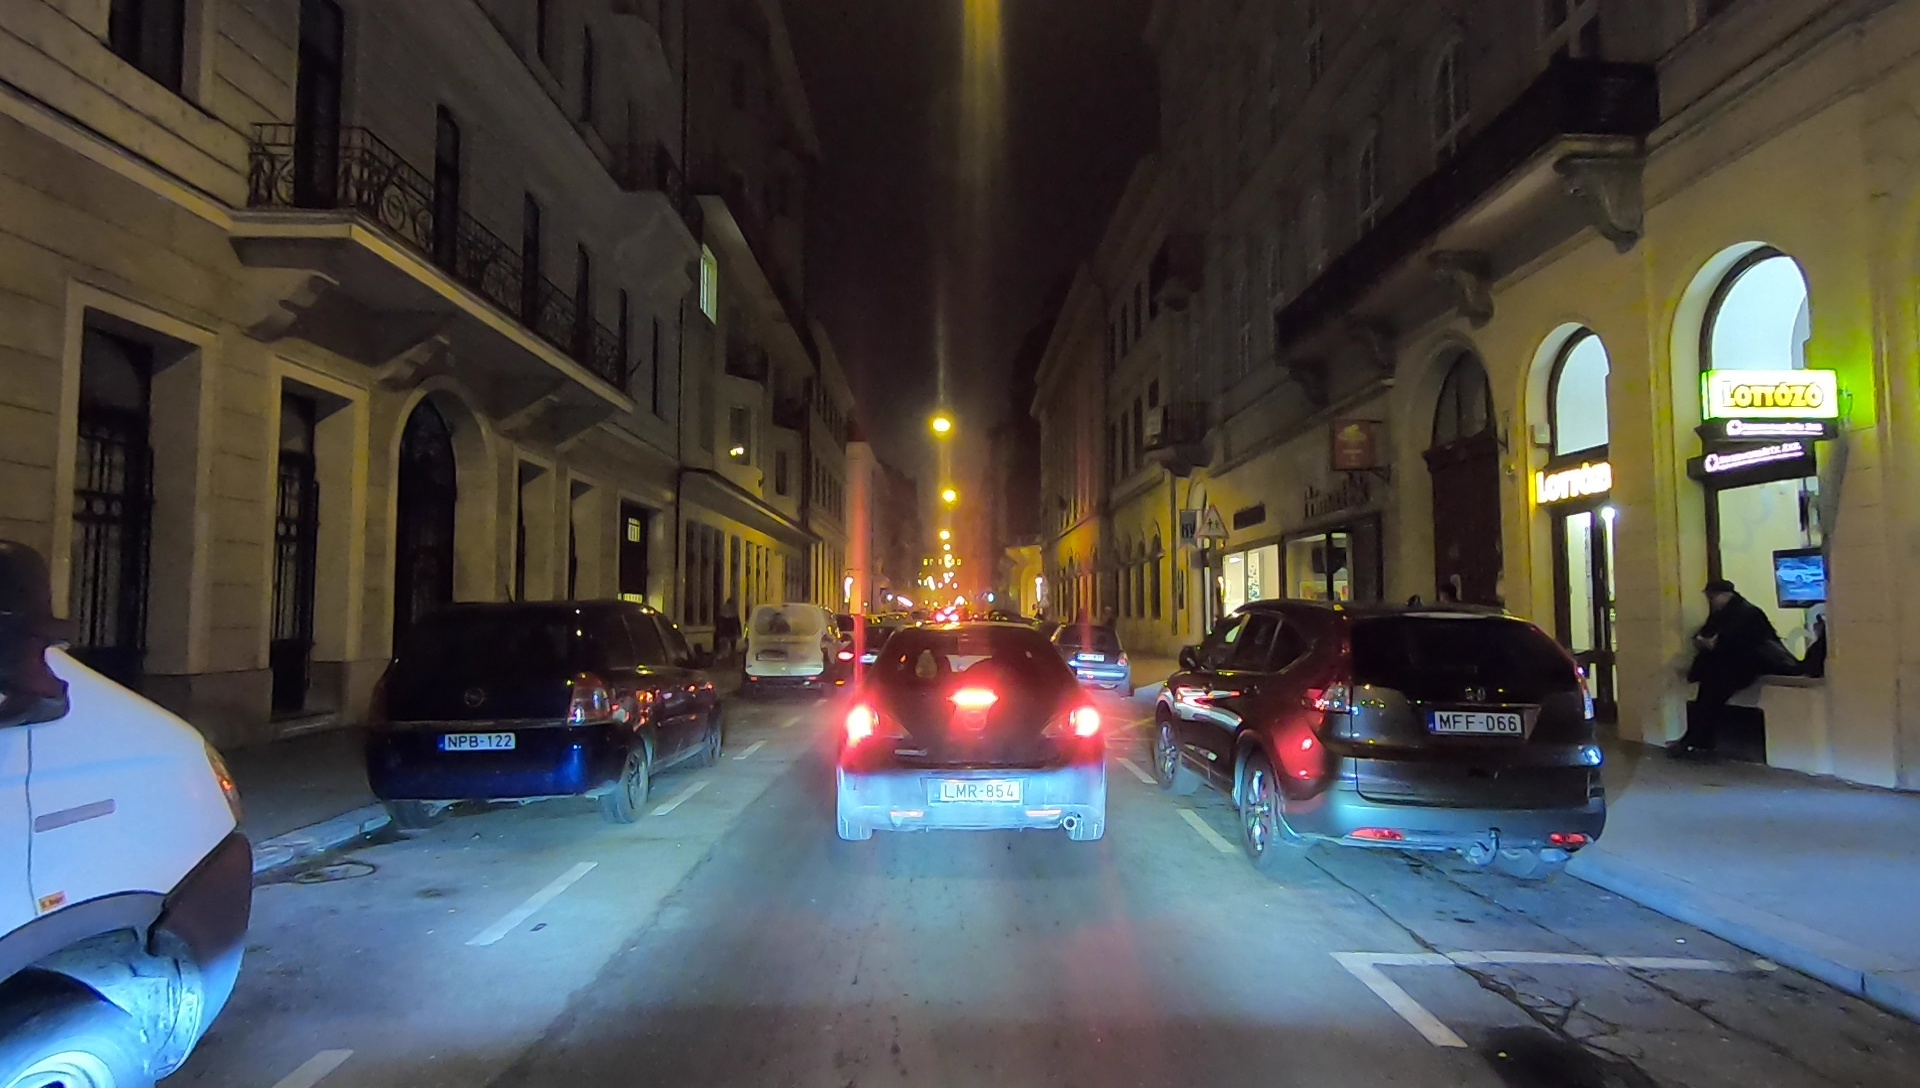person: (1686, 584, 1771, 763), (712, 595, 743, 673)
